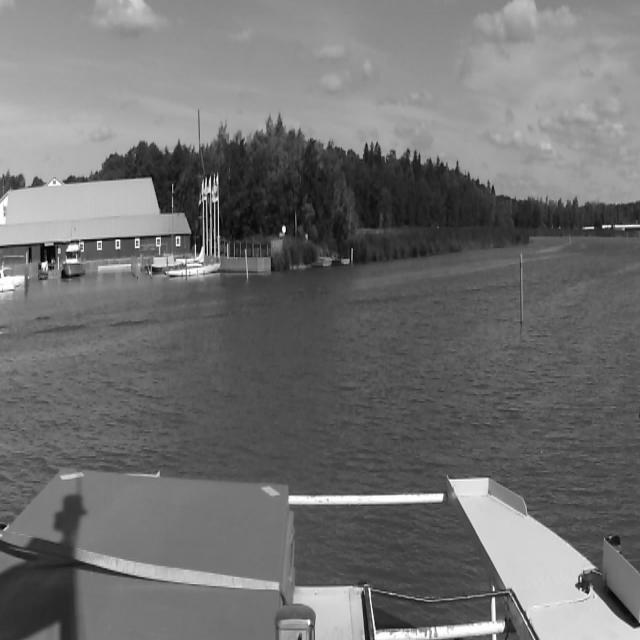buoy: (520, 254, 524, 324), (244, 249, 248, 279)
ship: (164, 109, 220, 278), (62, 226, 84, 280)
